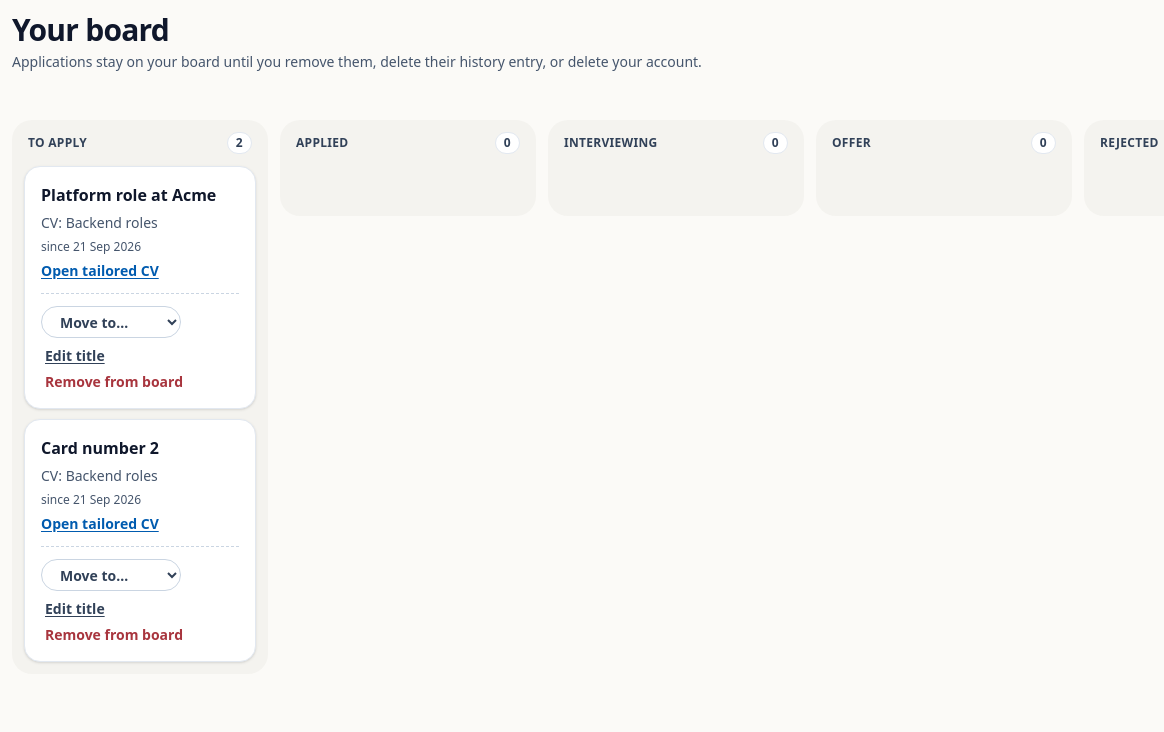
it: A write on card A does not disturb card B's move in flight › removing card A issues no board read until B settles, then exactly one; B never flickers back
This screenshot has width=1164, height=732.
Expected: the text "Platform role at Acme" is shown, [41,183,239,207]
Select "Offer" in the dropdown named "move to" below "Card number 2" at (111, 575), box [41,559,181,591]
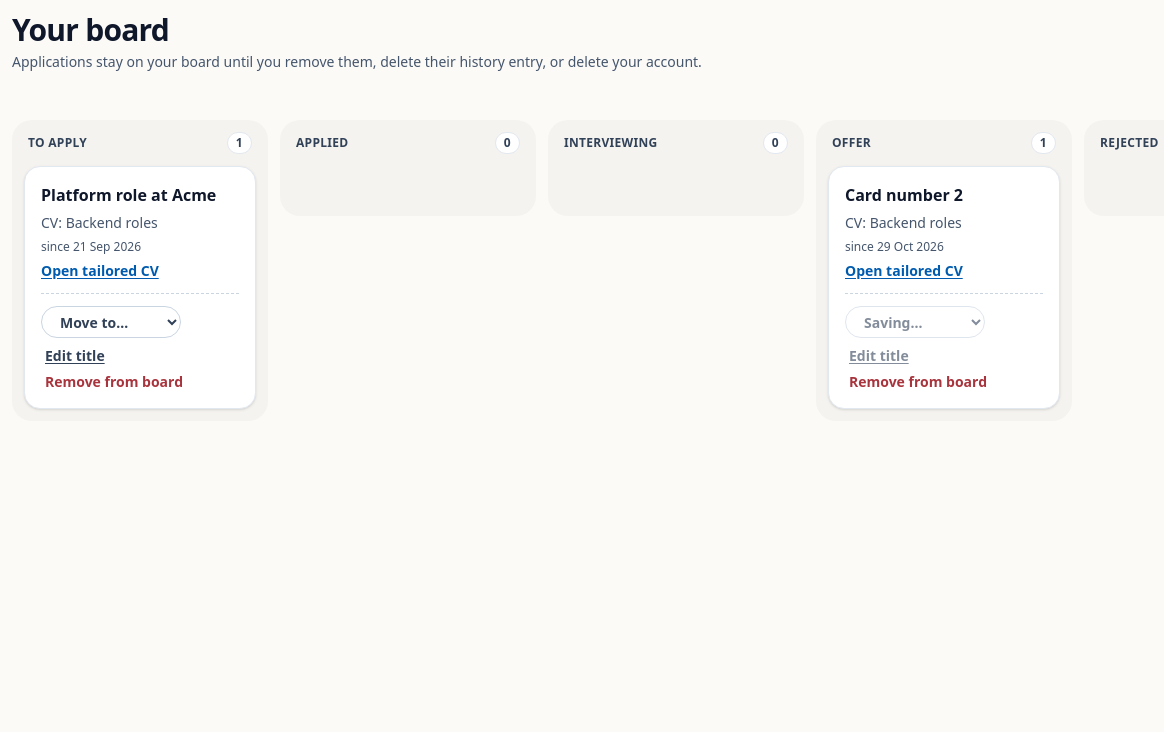
Click the button "Remove from board" below "Platform role at Acme" at (114, 382), box [41,372,187,392]
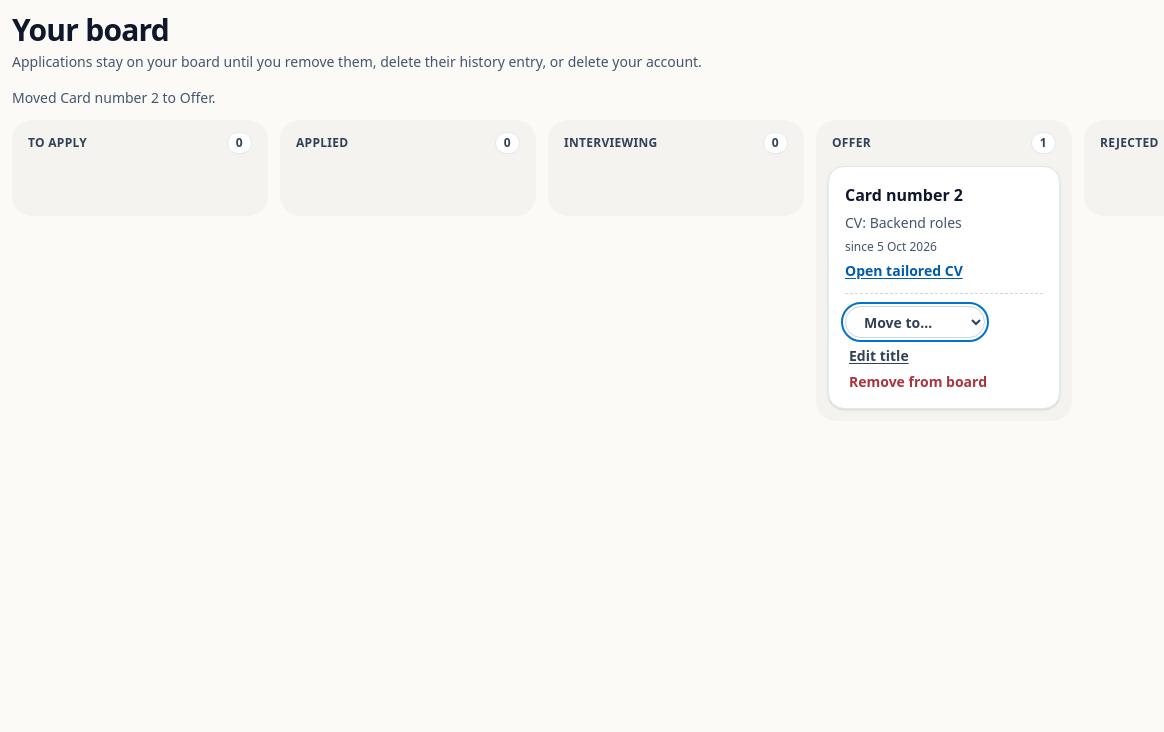
Expected: the text "Platform role at Acme" is gone
